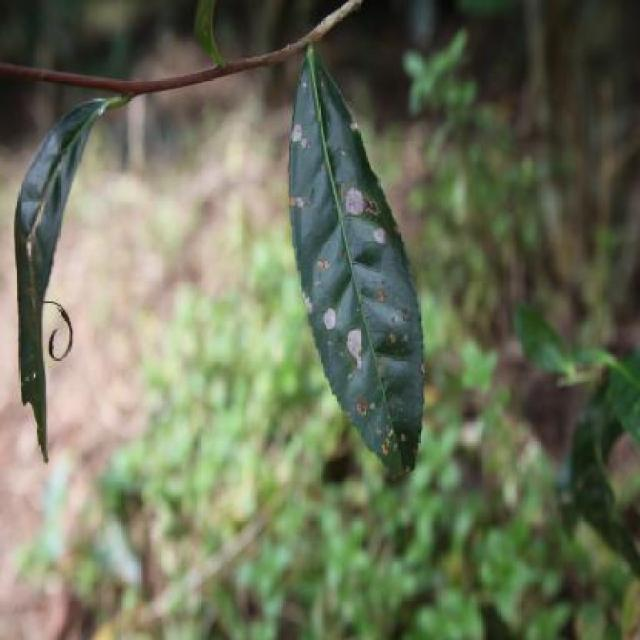Leaf rust of tea: (286, 48, 434, 492)
